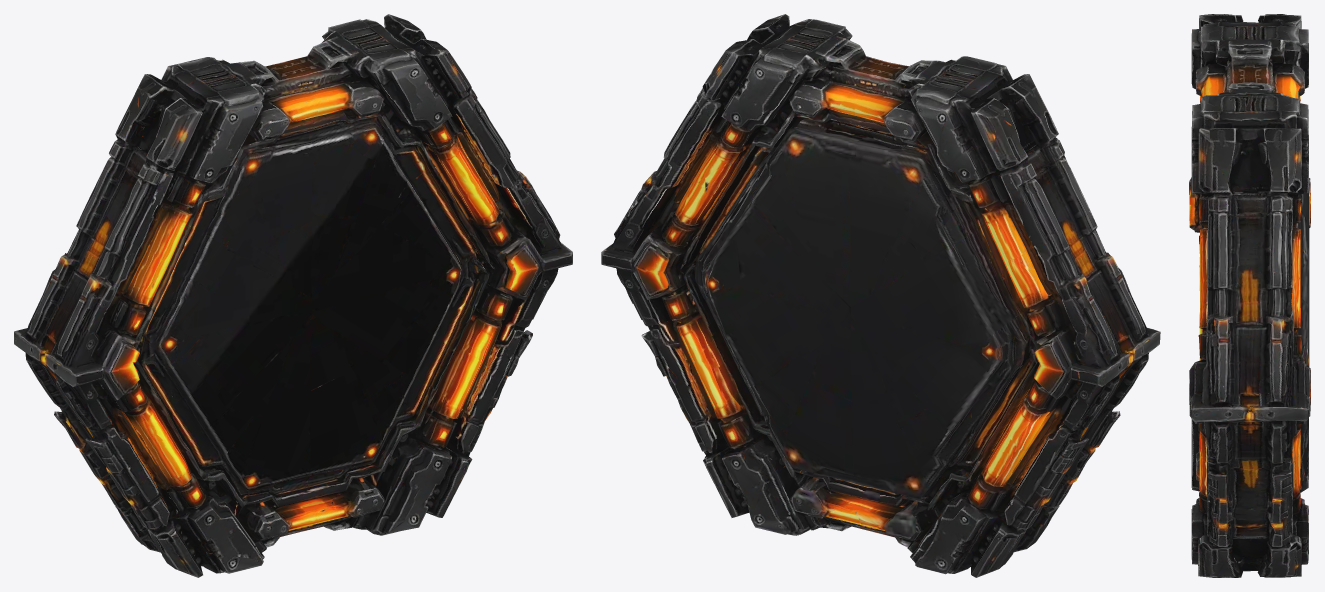
The model's file is node_ops_orange.glb.
The picture shows the model from 3 angles, left to right: view 1: azimuth 30°, elevation 25°; view 2: azimuth 150°, elevation 25°; view 3: azimuth 270°, elevation 25°; orthographic projection. The views are drawn at different scales.
Size of the model in its own units: 1.9 by 1.73 by 0.4158.
1 material, 1 textured.
